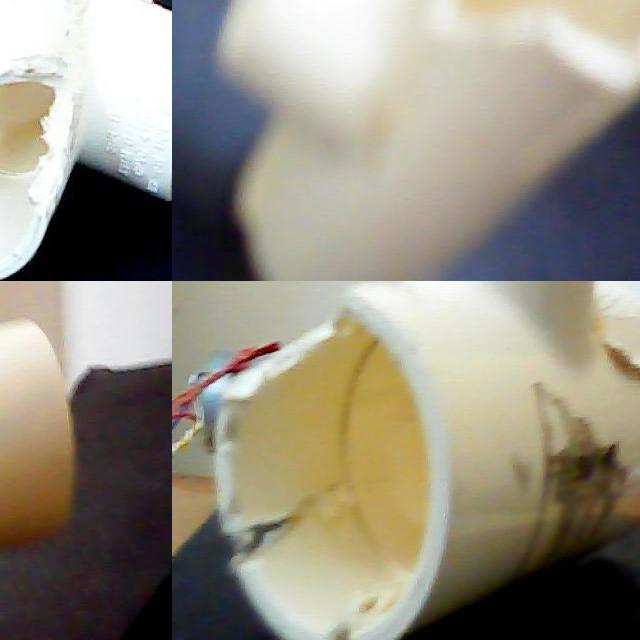Defective: (242, 490, 396, 635), (530, 384, 640, 571), (0, 42, 85, 256), (445, 0, 568, 87), (330, 281, 400, 356), (223, 512, 293, 567), (290, 318, 360, 363), (604, 317, 640, 389)
T Joint: (201, 281, 640, 640), (0, 319, 77, 556)
